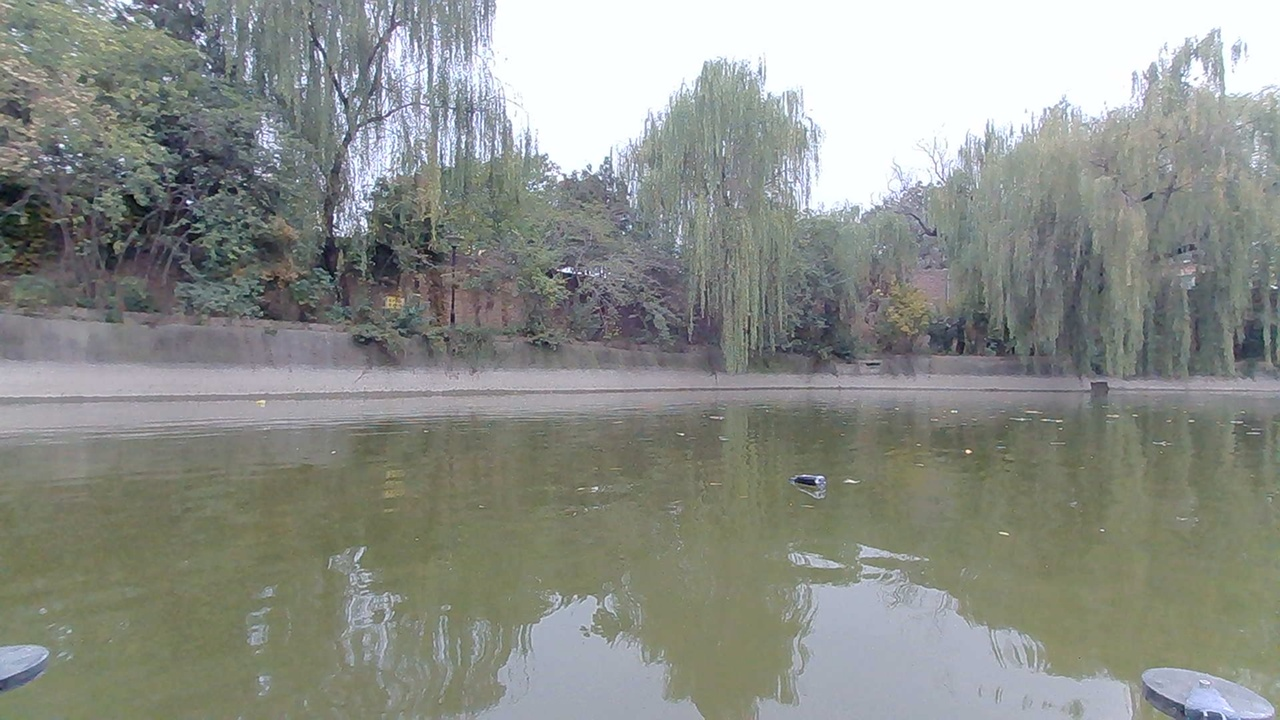bottle: (787, 464, 841, 498)
